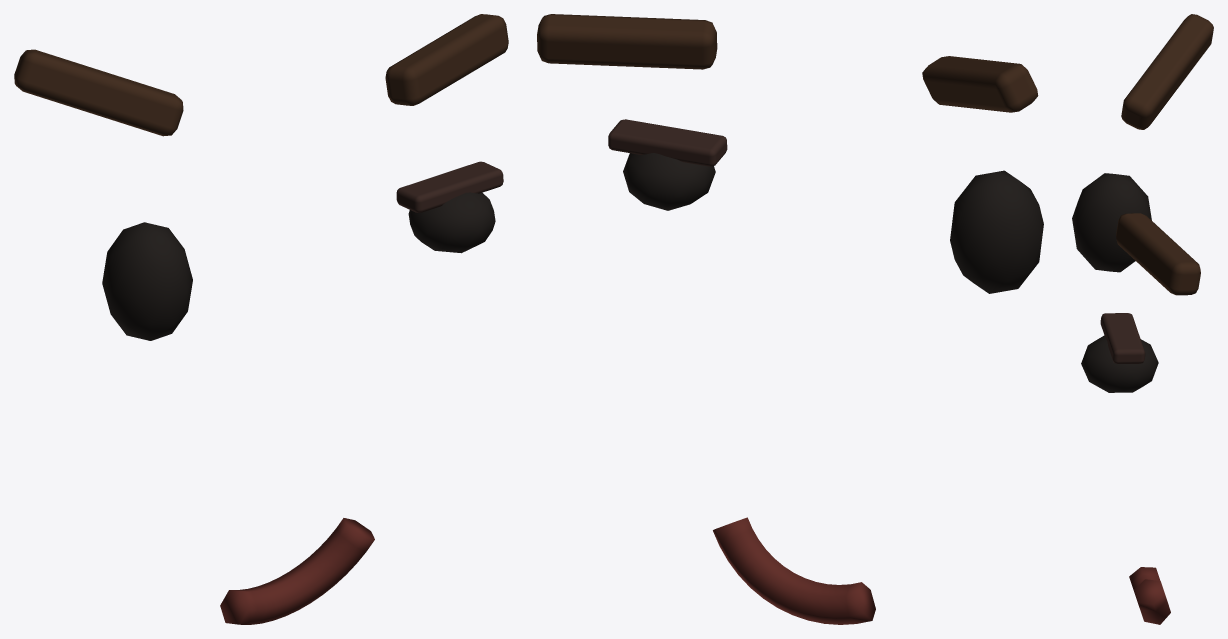
File: 06-skeptic.glb
3 renders of one model, left to right at view 1: azimuth 30°, elevation 25°; view 2: azimuth 150°, elevation 25°; view 3: azimuth 270°, elevation 25°, orthographic. The views are drawn at different scales.
Visible parts, largest first — view 1: Face06_Eye-1, Face06_Brow-1, Face06_Mouth, Face06_Brow1, Face06_Eye1, Face06_Eyelid1; view 2: Face06_Eye-1, Face06_Brow1, Face06_Mouth, Face06_Brow-1, Face06_Eye1, Face06_Eyelid1; view 3: Face06_Eye-1, Face06_Brow-1, Face06_Brow1, Face06_Eye1, Face06_Eyelid1, Face06_Mouth.
Part boxes in pixels (x1,y1,x2,y2): Face06_Eye-1: (102,222,192,340); Face06_Brow-1: (14,49,183,136); Face06_Mouth: (220,518,374,624); Face06_Brow1: (385,14,508,105); Face06_Eye1: (408,192,495,253); Face06_Eyelid1: (396,161,503,212); Face06_Eye-1: (950,170,1043,293); Face06_Brow1: (537,14,717,69); Face06_Mouth: (713,517,875,624); Face06_Brow-1: (922,56,1038,112); Face06_Eye1: (623,153,715,210); Face06_Eyelid1: (608,119,727,166); Face06_Eye-1: (1072,173,1151,272); Face06_Brow-1: (1121,14,1213,129); Face06_Brow1: (1116,213,1200,295); Face06_Eye1: (1081,335,1158,392); Face06_Eyelid1: (1100,313,1145,363); Face06_Mouth: (1129,567,1170,624).
Size of the model in its own units: 0.2889 by 0.3439 by 0.0866.
